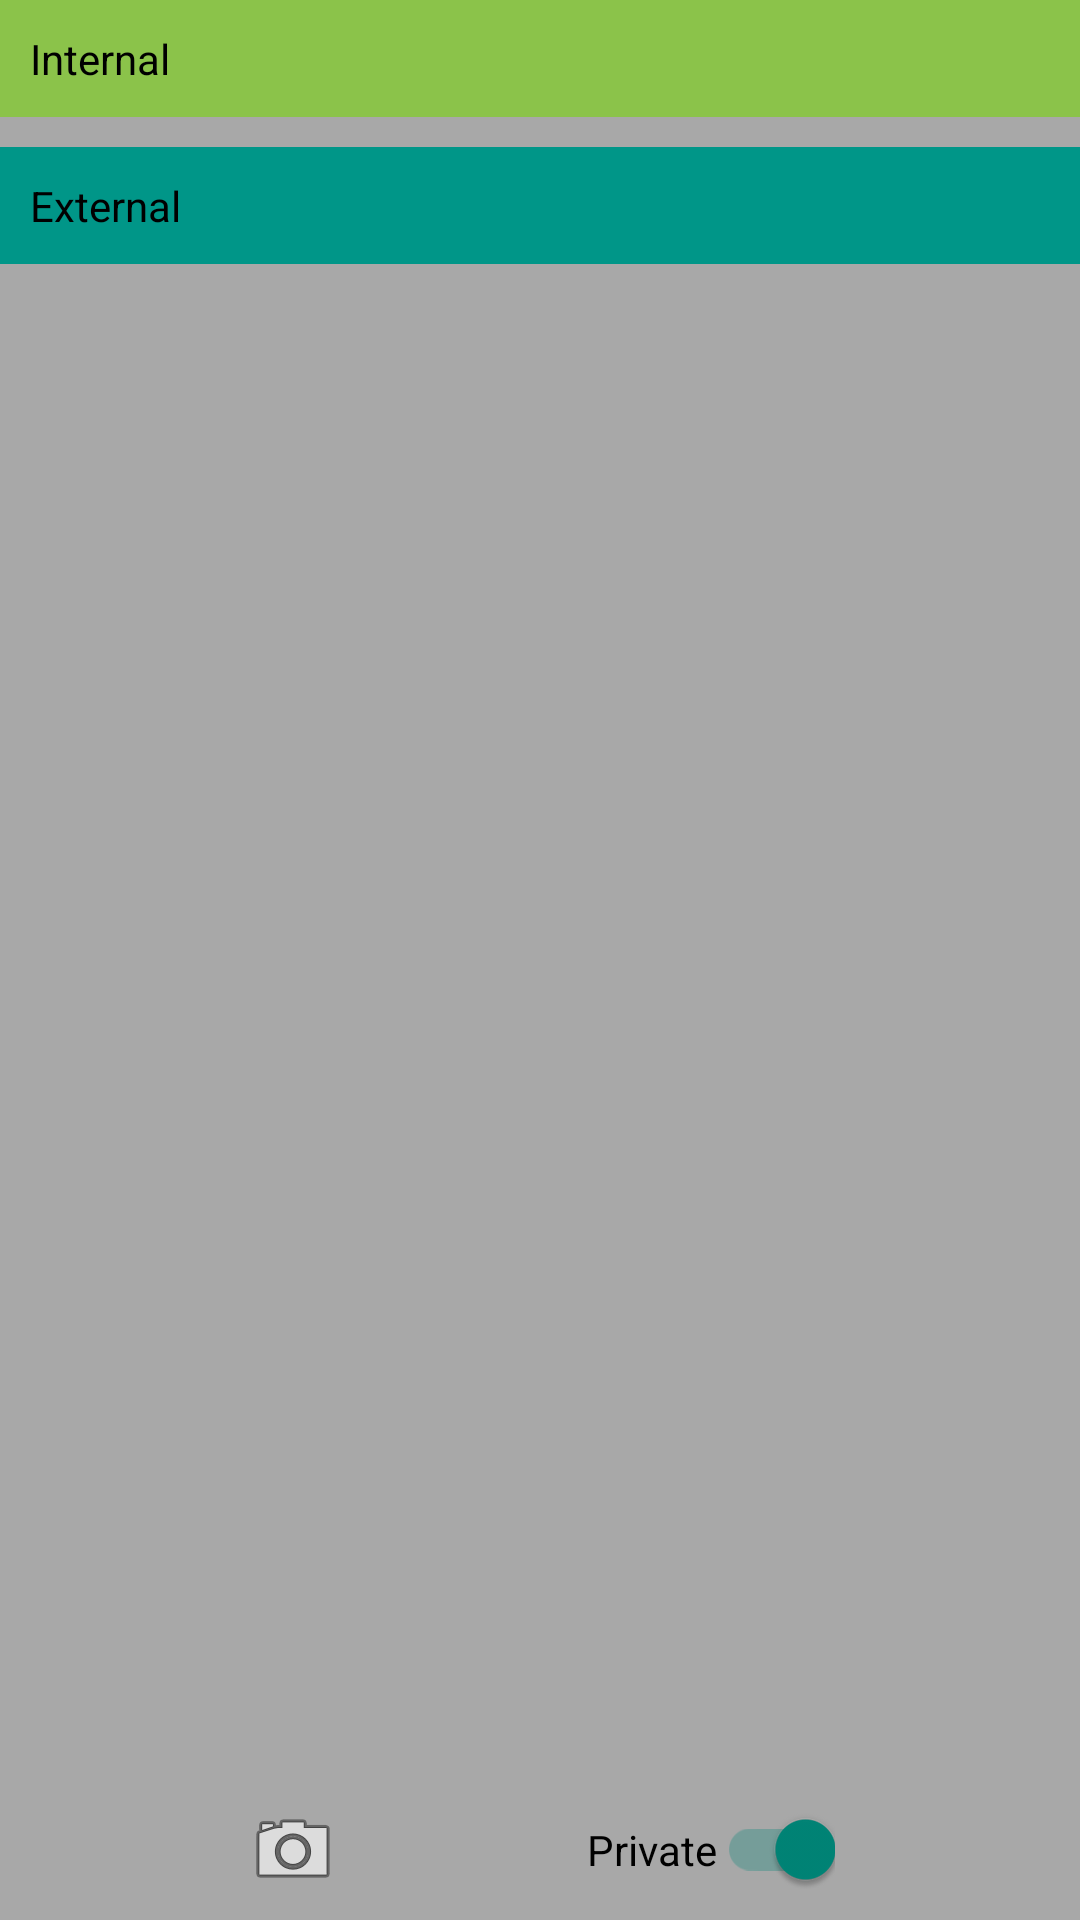

Named icons in this screenshot (1080*1920) and their centers, (x,y):
camera: (293,1848)
